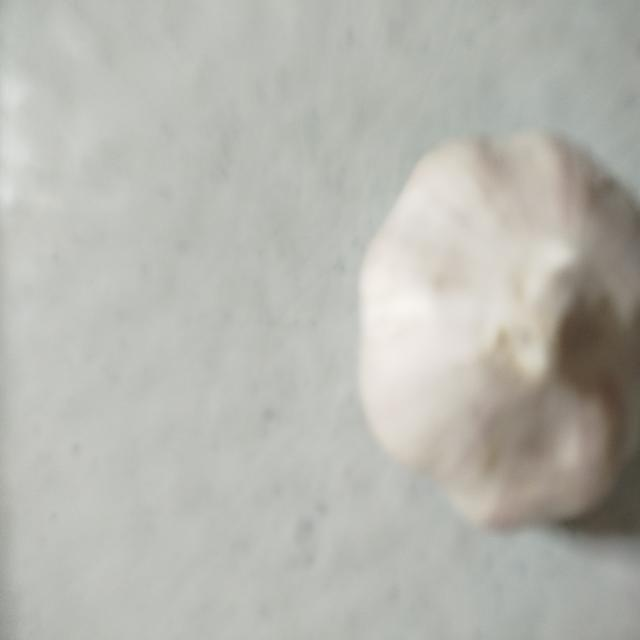garlic: (357, 127, 639, 533)
